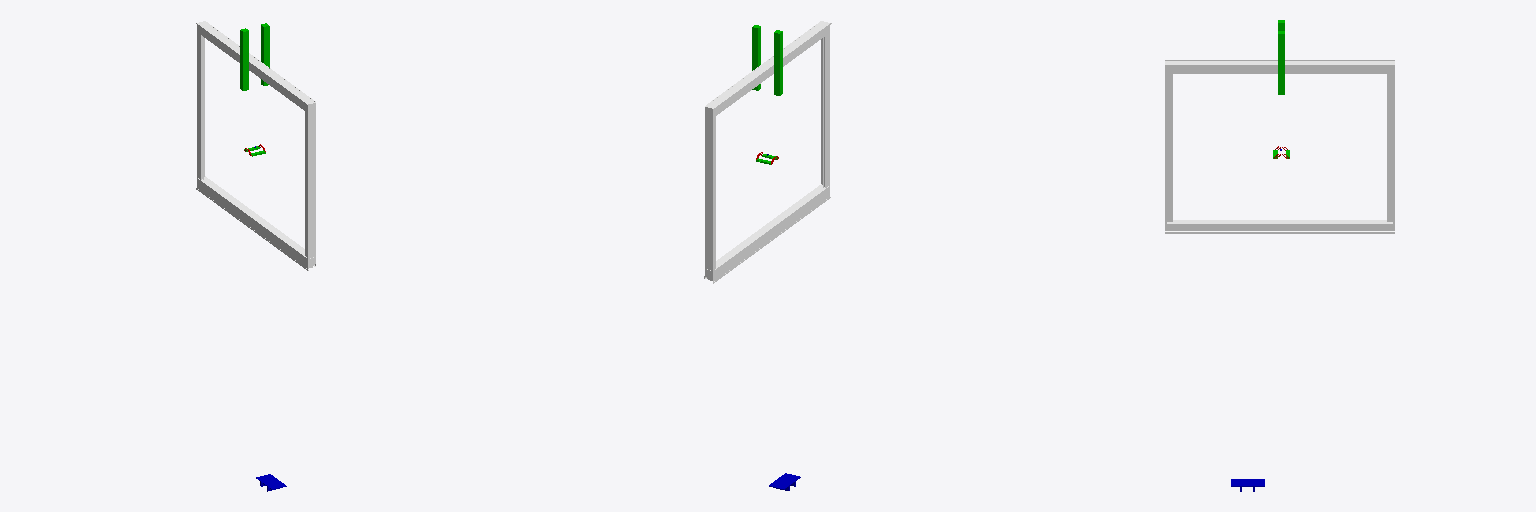
robot.urdf — robot:
<?xml version="0.0" ?>
<robot name="">
	<link name="base_window">
		<inertial>
			<origin rpy="0.00000 -0.00000 0.00000" xyz="0.00000 0.00000 0.00000"/>
			<mass value="10.00000"/>
			<inertia ixx="3.99414" ixy="0" ixz="0" iyy="1.58444" iyz="0" izz="2.41834"/>
		</inertial>
		<visual>
			<origin rpy="1.57080 -0.00000 0.00000" xyz="0.00000 0.00000 0.00000"/>
			<geometry>
				<mesh filename="models/window//meshes/window.dae" scale="1.00000 1.00000 1.00000"/>
			</geometry>
			<material name="mat_-1_0">
				<color rgba="1.00000 1.00000 1.00000 1.00000" />
			</material>
		</visual>
		<collision>
			<origin rpy="1.57080 -0.00000 0.00000" xyz="0.00000 -0.01000 0.05200"/>
			<geometry>
				<box size="0.07000 1.37500 1.70000"/>
			</geometry>
		</collision>
	</link>
	<link name="base1">
		<inertial>
			<origin rpy="0.00000 -0.00000 0.00000" xyz="0.00000 0.00000 0.00000"/>
			<mass value="0.11600"/>
			<inertia ixx="0.00244" ixy="0" ixz="0" iyy="0.00244" iyz="0" izz="0.00005"/>
		</inertial>
		<visual>
			<origin rpy="0.00000 -0.00000 0.00000" xyz="0.00000 0.00000 0.00000"/>
			<geometry>
				<box size="0.05000 0.05000 0.50000"/>
			</geometry>
			<material name="mat_0_0">
				<color rgba="0.00000 0.80000 0.00000 1.00000" />
			</material>
		</visual>
		<collision>
			<origin rpy="0.00000 -0.00000 0.00000" xyz="0.00000 0.00000 0.00000"/>
			<geometry>
				<box size="0.05000 0.05000 0.50000"/>
			</geometry>
		</collision>
	</link>
	<link name="base2">
		<inertial>
			<origin rpy="0.00000 -0.00000 0.00000" xyz="0.00000 0.00000 0.00000"/>
			<mass value="0.11600"/>
			<inertia ixx="0.00244" ixy="0" ixz="0" iyy="0.00244" iyz="0" izz="0.00005"/>
		</inertial>
		<visual>
			<origin rpy="0.00000 -0.00000 0.00000" xyz="0.00000 0.00000 0.00000"/>
			<geometry>
				<box size="0.05000 0.05000 0.50000"/>
			</geometry>
			<material name="mat_1_0">
				<color rgba="0.00000 0.80000 0.00000 1.00000" />
			</material>
		</visual>
		<collision>
			<origin rpy="0.00000 -0.00000 0.00000" xyz="0.00000 0.00000 0.00000"/>
			<geometry>
				<box size="0.05000 0.05000 0.50000"/>
			</geometry>
		</collision>
	</link>
	<link name="base_link">
		<inertial>
			<origin rpy="0.00000 -0.00000 0.00000" xyz="-0.25000 0.00000 -2.68000"/>
			<mass value="100.00000"/>
			<inertia ixx="0.17581" ixy="0" ixz="0" iyy="0.56781" iyz="0" izz="0.70027"/>
		</inertial>
		<visual>
			<origin rpy="0.00000 -0.00000 1.57080" xyz="0.00000 -0.25000 -2.68000"/>
			<geometry>
				<mesh filename="models/actuatorBot/meshes/baseALT.dae" scale="1.00000 1.00000 1.00000"/>
			</geometry>
			<material name="mat_-1_0">
				<color rgba="0.00000 0.00000 0.80000 1.00000" />
			</material>
		</visual>
		<collision>
			<origin rpy="0.00000 -0.00000 0.00000" xyz="-0.25000 0.00000 -2.68000"/>
			<geometry>
				<mesh filename="models/actuatorBot/meshes/baseALT.dae" scale="1.00000 1.00000 1.00000"/>
			</geometry>
		</collision>
	</link>
	<link name="carriage1">
		<inertial>
			<origin rpy="0.00000 -0.00000 0.00000" xyz="0.00000 0.00000 0.00000"/>
			<mass value="0.11600"/>
			<inertia ixx="0.00001" ixy="0" ixz="0" iyy="0.00014" iyz="0" izz="0.00015"/>
		</inertial>
		<visual>
			<origin rpy="0.00000 -0.00000 0.00000" xyz="-0.00250 0.00000 0.00000"/>
			<geometry>
				<mesh filename="models/actuatorBot/meshes/carriage.dae" scale="1.00000 1.00000 1.00000"/>
			</geometry>
			<material name="mat_0_0">
				<color rgba="0.00000 0.80000 0.00000 1.00000" />
			</material>
		</visual>
		<collision>
			<origin rpy="0.00000 -0.00000 0.00000" xyz="0.00000 0.00000 0.00000"/>
			<geometry>
				<box size="0.12000 0.03000 0.01500"/>
			</geometry>
		</collision>
	</link>
	<link name="arml1">
		<inertial>
			<origin rpy="0.00000 -0.00000 0.00000" xyz="0.00000 0.00000 0.00000"/>
			<mass value="0.01590"/>
			<inertia ixx="0.00000" ixy="0" ixz="0" iyy="0.00000" iyz="0" izz="0.00000"/>
		</inertial>
		<visual>
			<origin rpy="-1.57100 0.00000 -1.57080" xyz="0.00000 0.00000 0.00000"/>
			<geometry>
				<mesh filename="models/actuatorBot/meshes/arm1.dae" scale="1.00000 1.00000 1.00000"/>
			</geometry>
			<material name="mat_1_0">
				<color rgba="0.80000 0.00000 0.00000 1.00000" />
			</material>
		</visual>
		<collision>
			<origin rpy="0.00000 -0.00000 0.00000" xyz="0.00000 -0.02250 0.00000"/>
			<geometry>
				<box size="0.00500 0.05000 0.00300"/>
			</geometry>
		</collision>
	</link>
	<link name="middle">
		<inertial>
			<origin rpy="0.00000 -0.00000 0.00000" xyz="0.00000 0.00000 0.00000"/>
			<mass value="0.07158"/>
			<inertia ixx="0.00002" ixy="0" ixz="0" iyy="0.00009" iyz="0" izz="0.00011"/>
		</inertial>
		<visual>
			<origin rpy="-1.57100 0.00000 -1.57100" xyz="0.00000 0.00000 0.00000"/>
			<geometry>
				<mesh filename="models/actuatorBot/meshes/middle1.dae" scale="1.00000 1.00000 1.00000"/>
			</geometry>
			<material name="mat_2_0">
				<color rgba="0.00000 0.00000 0.80000 1.00000" />
			</material>
		</visual>
		<collision>
			<origin rpy="0.00000 -0.00000 0.00000" xyz="0.00000 -0.02500 0.00000"/>
			<geometry>
				<box size="0.12000 0.06000 0.01000"/>
			</geometry>
		</collision>
	</link>
	<link name="EE">
		<inertial>
			<origin rpy="0.00000 -0.00000 0.00000" xyz="0.00000 0.00000 0.00000"/>
			<mass value="1.00000"/>
			<inertia ixx="0.00000" ixy="0" ixz="0" iyy="0.00000" iyz="0" izz="0.00000"/>
		</inertial>
		<visual>
			<origin rpy="0.00000 -0.00000 0.00000" xyz="0.00000 0.00000 0.00000"/>
			<geometry>
				<box size="0.01000 0.01000 0.01000"/>
			</geometry>
			<material name="mat_3_0">
				<color rgba="0.00000 0.00000 0.80000 1.00000" />
			</material>
		</visual>
		<collision>
			<origin rpy="0.00000 -0.00000 0.00000" xyz="0.00000 0.00000 0.00000"/>
			<geometry>
				<box size="0.00100 0.00100 0.00100"/>
			</geometry>
		</collision>
	</link>
	<link name="armr1">
		<inertial>
			<origin rpy="0.00000 -0.00000 0.00000" xyz="0.00000 0.00000 0.00000"/>
			<mass value="0.01590"/>
			<inertia ixx="0.00000" ixy="0" ixz="0" iyy="0.00000" iyz="0" izz="0.00000"/>
		</inertial>
		<visual>
			<origin rpy="-1.57080 0.00000 -1.57060" xyz="0.00000 0.00000 0.00000"/>
			<geometry>
				<mesh filename="models/actuatorBot/meshes/arm1.dae" scale="1.00000 1.00000 1.00000"/>
			</geometry>
			<material name="mat_4_0">
				<color rgba="0.80000 0.00000 0.00000 1.00000" />
			</material>
		</visual>
		<collision>
			<origin rpy="0.00000 -0.00000 0.00000" xyz="0.00000 -0.02250 0.00000"/>
			<geometry>
				<box size="0.00500 0.05000 0.00300"/>
			</geometry>
		</collision>
	</link>
	<link name="arml3">
		<inertial>
			<origin rpy="0.00000 -0.00000 0.00000" xyz="0.00000 0.00000 0.00000"/>
			<mass value="0.01590"/>
			<inertia ixx="0.00000" ixy="0" ixz="0" iyy="0.00000" iyz="0" izz="0.00000"/>
		</inertial>
		<visual>
			<origin rpy="1.57060 -0.00000 -1.57080" xyz="0.00000 0.00000 0.00000"/>
			<geometry>
				<mesh filename="models/actuatorBot/meshes/arm1.dae" scale="1.00000 1.00000 1.00000"/>
			</geometry>
			<material name="mat_5_0">
				<color rgba="0.80000 0.00000 0.00000 1.00000" />
			</material>
		</visual>
		<collision>
			<origin rpy="0.00000 -0.00000 0.00000" xyz="0.00000 -0.02250 0.00000"/>
			<geometry>
				<box size="0.00500 0.05000 0.00300"/>
			</geometry>
		</collision>
	</link>
	<link name="armr3">
		<inertial>
			<origin rpy="0.00000 -0.00000 0.00000" xyz="0.00000 0.00000 0.00000"/>
			<mass value="0.01590"/>
			<inertia ixx="0.00000" ixy="0" ixz="0" iyy="0.00000" iyz="0" izz="0.00000"/>
		</inertial>
		<visual>
			<origin rpy="1.57080 0.00000 -1.57080" xyz="0.00000 0.00000 0.00000"/>
			<geometry>
				<mesh filename="models/actuatorBot/meshes/arm1.dae" scale="1.00000 1.00000 1.00000"/>
			</geometry>
			<material name="mat_6_0">
				<color rgba="0.80000 0.00000 0.00000 1.00000" />
			</material>
		</visual>
		<collision>
			<origin rpy="0.00000 -0.00000 0.00000" xyz="0.00000 -0.02250 0.00000"/>
			<geometry>
				<box size="0.00500 0.05000 0.00300"/>
			</geometry>
		</collision>
	</link>
	<link name="carriage2">
		<inertial>
			<origin rpy="0.00000 -0.00000 0.00000" xyz="0.00000 0.00000 0.00000"/>
			<mass value="0.11600"/>
			<inertia ixx="0.00001" ixy="0" ixz="0" iyy="0.00014" iyz="0" izz="0.00015"/>
		</inertial>
		<visual>
			<origin rpy="0.00000 -0.00000 0.00000" xyz="-0.00250 0.00000 0.00000"/>
			<geometry>
				<mesh filename="models/actuatorBot/meshes/carriage.dae" scale="1.00000 1.00000 1.00000"/>
			</geometry>
			<material name="mat_7_0">
				<color rgba="0.00000 0.80000 0.00000 1.00000" />
			</material>
		</visual>
		<collision>
			<origin rpy="0.00000 -0.00000 0.00000" xyz="0.00000 0.00000 0.00000"/>
			<geometry>
				<box size="0.12000 0.03000 0.01500"/>
			</geometry>
		</collision>
	</link>
	<link name="arml2">
		<inertial>
			<origin rpy="0.00000 -0.00000 0.00000" xyz="0.00000 0.00000 0.00000"/>
			<mass value="0.01590"/>
			<inertia ixx="0.00000" ixy="0" ixz="0" iyy="0.00000" iyz="0" izz="0.00000"/>
		</inertial>
		<visual>
			<origin rpy="1.57060 0.00000 1.57080" xyz="0.00000 0.00000 0.00000"/>
			<geometry>
				<mesh filename="models/actuatorBot/meshes/arm1.dae" scale="1.00000 1.00000 1.00000"/>
			</geometry>
			<material name="mat_8_0">
				<color rgba="0.80000 0.00000 0.00000 1.00000" />
			</material>
		</visual>
		<collision>
			<origin rpy="0.00000 -0.00000 0.00000" xyz="0.00000 0.02250 0.00000"/>
			<geometry>
				<box size="0.00500 0.05000 0.00300"/>
			</geometry>
		</collision>
	</link>
	<link name="armr2">
		<inertial>
			<origin rpy="0.00000 -0.00000 0.00000" xyz="0.00000 0.00000 0.00000"/>
			<mass value="0.01590"/>
			<inertia ixx="0.00000" ixy="0" ixz="0" iyy="0.00000" iyz="0" izz="0.00000"/>
		</inertial>
		<visual>
			<origin rpy="-1.57100 0.00000 1.57080" xyz="0.00000 0.00000 0.00000"/>
			<geometry>
				<mesh filename="models/actuatorBot/meshes/arm1.dae" scale="1.00000 1.00000 1.00000"/>
			</geometry>
			<material name="mat_9_0">
				<color rgba="0.80000 0.00000 0.00000 1.00000" />
			</material>
		</visual>
		<collision>
			<origin rpy="0.00000 -0.00000 0.00000" xyz="0.00000 0.02250 0.00000"/>
			<geometry>
				<box size="0.00500 0.05000 0.00300"/>
			</geometry>
		</collision>
	</link>
	<link name="arml4">
		<inertial>
			<origin rpy="0.00000 -0.00000 0.00000" xyz="0.00000 0.00000 0.00000"/>
			<mass value="0.01590"/>
			<inertia ixx="0.00000" ixy="0" ixz="0" iyy="0.00000" iyz="0" izz="0.00000"/>
		</inertial>
		<visual>
			<origin rpy="-1.57100 0.00000 1.57080" xyz="0.00000 0.00000 0.00000"/>
			<geometry>
				<mesh filename="models/actuatorBot/meshes/arm1.dae" scale="1.00000 1.00000 1.00000"/>
			</geometry>
			<material name="mat_10_0">
				<color rgba="0.80000 0.00000 0.00000 1.00000" />
			</material>
		</visual>
		<collision>
			<origin rpy="0.00000 -0.00000 0.00000" xyz="0.00000 0.02250 0.00000"/>
			<geometry>
				<box size="0.00500 0.05000 0.00300"/>
			</geometry>
		</collision>
	</link>
	<link name="armr4">
		<inertial>
			<origin rpy="0.00000 -0.00000 0.00000" xyz="0.00000 0.00000 0.00000"/>
			<mass value="0.01590"/>
			<inertia ixx="0.00000" ixy="0" ixz="0" iyy="0.00000" iyz="0" izz="0.00000"/>
		</inertial>
		<visual>
			<origin rpy="1.57060 0.00000 1.57080" xyz="0.00000 0.00000 0.00000"/>
			<geometry>
				<mesh filename="models/actuatorBot/meshes/arm1.dae" scale="1.00000 1.00000 1.00000"/>
			</geometry>
			<material name="mat_11_0">
				<color rgba="0.80000 0.00000 0.00000 1.00000" />
			</material>
		</visual>
		<collision>
			<origin rpy="0.00000 -0.00000 0.00000" xyz="0.00000 0.02250 0.00000"/>
			<geometry>
				<box size="0.00500 0.05000 0.00300"/>
			</geometry>
		</collision>
	</link>
	<joint name="connect1" type="fixed">
		<parent link="base_window"/>
		<child link="base1"/>
		<dynamics damping="1.0" friction="0.0001"/>
		<origin rpy="0.00000 -0.00000 0.00000" xyz="0.09000 0.00000 0.80000"/>
		<axis xyz="0.00000 0.00000 0.00000"/>
	</joint>
	<joint name="connect2" type="fixed">
		<parent link="base_window"/>
		<child link="base2"/>
		<dynamics damping="1.0" friction="0.0001"/>
		<origin rpy="0.00000 -0.00000 0.00000" xyz="-0.09000 0.00000 0.80000"/>
		<axis xyz="0.00000 0.00000 0.00000"/>
	</joint>
	<joint name="joint_dummy1" type="continuous">
		<parent link="base_window"/>
		<child link="base_link"/>
		<dynamics damping="1.0" friction="0.0001"/>
		<origin rpy="0.00000 0.00000 0.00000" xyz="0.00000 0.00000 0.00000"/>
		<axis xyz="0.00000 0.00000 1.00000"/>
	</joint>
	<joint name="base_to_carriage1" type="prismatic">
		<parent link="base_link"/>
		<child link="carriage1"/>
<limit effort="1000.0" lower="-0.50000" upper="0.50000" velocity="0.5"/>		<dynamics damping="1.0" friction="0.0001"/>
		<origin rpy="0.00000 -0.00000 0.00000" xyz="0.00000 0.04500 0.00750"/>
		<axis xyz="0.00000 1.00000 0.00000"/>
	</joint>
	<joint name="carriage1_to_arml1" type="continuous">
		<parent link="carriage1"/>
		<child link="arml1"/>
		<dynamics damping="1.0" friction="0.0001"/>
		<origin rpy="-0.78540 0.00000 0.00000" xyz="0.06250 0.00800 0.00000"/>
		<axis xyz="1.00000 0.00000 0.00000"/>
	</joint>
	<joint name="arml1_to_middle" type="continuous">
		<parent link="arml1"/>
		<child link="middle"/>
		<dynamics damping="1.0" friction="0.0001"/>
		<origin rpy="0.78540 -0.00000 0.00000" xyz="-0.06250 -0.04500 0.00000"/>
		<axis xyz="1.00000 0.00000 0.00000"/>
	</joint>
	<joint name="middle_to_EE" type="continuous">
		<parent link="middle"/>
		<child link="EE"/>
		<dynamics damping="1.0" friction="0.0001"/>
		<origin rpy="0.00000 -0.00000 0.00000" xyz="0.00000 -0.02500 0.00500"/>
		<axis xyz="0.00000 0.00000 1.00000"/>
	</joint>
	<joint name="carriage1_to_armr1" type="continuous">
		<parent link="carriage1"/>
		<child link="armr1"/>
		<dynamics damping="1.0" friction="0.0001"/>
		<origin rpy="-0.78540 0.00000 0.00000" xyz="-0.06250 0.00800 0.00000"/>
		<axis xyz="1.00000 0.00000 0.00000"/>
	</joint>
	<joint name="carriage1_to_arml3" type="continuous">
		<parent link="carriage1"/>
		<child link="arml3"/>
		<dynamics damping="1.0" friction="0.0001"/>
		<origin rpy="-0.78540 0.00000 0.00000" xyz="0.06250 -0.00800 0.00000"/>
		<axis xyz="1.00000 0.00000 0.00000"/>
	</joint>
	<joint name="carriage1_to_armr3" type="continuous">
		<parent link="carriage1"/>
		<child link="armr3"/>
		<dynamics damping="1.0" friction="0.0001"/>
		<origin rpy="-0.78540 0.00000 0.00000" xyz="-0.06250 -0.00800 0.00000"/>
		<axis xyz="1.00000 0.00000 0.00000"/>
	</joint>
	<joint name="base_to_carriage2" type="prismatic">
		<parent link="base_link"/>
		<child link="carriage2"/>
<limit effort="1000.0" lower="-0.50000" upper="0.50000" velocity="0.5"/>		<dynamics damping="1.0" friction="0.0001"/>
		<origin rpy="0.00000 -0.00000 0.00000" xyz="0.00000 -0.04500 0.00750"/>
		<axis xyz="0.00000 1.00000 0.00000"/>
	</joint>
	<joint name="carriage2_to_arml2" type="continuous">
		<parent link="carriage2"/>
		<child link="arml2"/>
		<dynamics damping="1.0" friction="0.0001"/>
		<origin rpy="0.78540 -0.00000 0.00000" xyz="0.06250 0.00800 0.00000"/>
		<axis xyz="1.00000 0.00000 0.00000"/>
	</joint>
	<joint name="carriage2_to_armr2" type="continuous">
		<parent link="carriage2"/>
		<child link="armr2"/>
		<dynamics damping="1.0" friction="0.0001"/>
		<origin rpy="0.78540 -0.00000 0.00000" xyz="-0.06250 -0.00800 0.00000"/>
		<axis xyz="1.00000 0.00000 0.00000"/>
	</joint>
	<joint name="carriage2_to_arml4" type="continuous">
		<parent link="carriage2"/>
		<child link="arml4"/>
		<dynamics damping="1.0" friction="0.0001"/>
		<origin rpy="0.78540 -0.00000 0.00000" xyz="0.06250 -0.00800 0.00000"/>
		<axis xyz="1.00000 0.00000 0.00000"/>
	</joint>
	<joint name="carriage2_to_armr4" type="continuous">
		<parent link="carriage2"/>
		<child link="armr4"/>
		<dynamics damping="1.0" friction="0.0001"/>
		<origin rpy="0.78540 -0.00000 0.00000" xyz="-0.06250 0.00800 0.00000"/>
		<axis xyz="1.00000 0.00000 0.00000"/>
	</joint>
</robot>

--- Render facts (derived) ---
Views: 3 orthographic renders of the robot side by side, from view 1: azimuth 30°, elevation 25°; view 2: azimuth 150°, elevation 25°; view 3: azimuth 270°, elevation 25°.
Model robot with 16 links and 15 joints (11 continuous, 2 prismatic, 2 fixed), rooted at base_window, posed every joint at zero.
Links seen in each view (by area): view 1: base_window, base2; view 2: base_window, base2; view 3: base_window.
Link boxes in pixels (bbox=[...]): base_window: bbox=[196, 21, 315, 270]; base2: bbox=[240, 28, 248, 90]; base_window: bbox=[704, 21, 831, 283]; base2: bbox=[774, 30, 782, 95]; base_window: bbox=[1165, 60, 1394, 233].
Bounding box of the posed robot: 0.23 × 1.7 × 3.77 m (x, y, z).
12 mesh visuals loaded from 5 distinct referenced files (4 Collada DAE); not drawn: 1 (reference not matched to a file when rendering).
